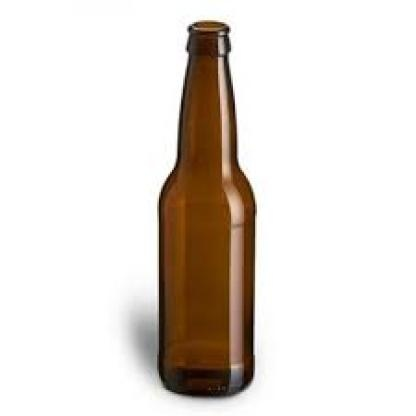trash: (159, 21, 254, 394)
